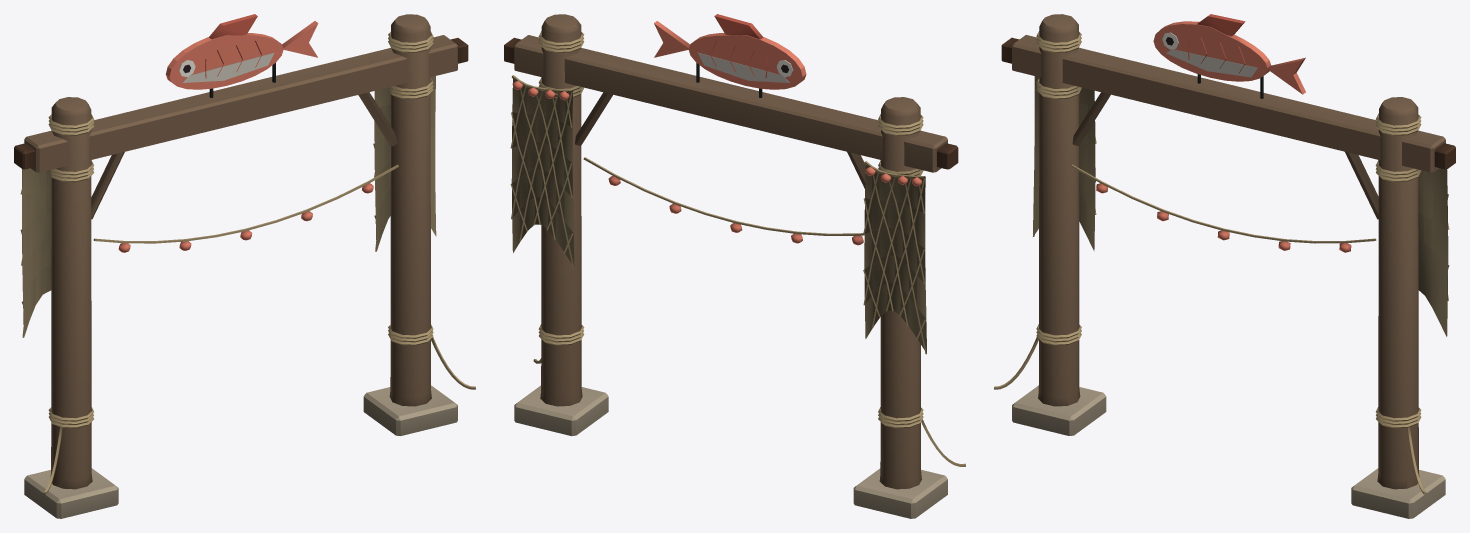
The model's file is pav_lighthouse_arch.glb.
3 renders of one model, left to right at view 1: azimuth 30°, elevation 25°; view 2: azimuth 150°, elevation 25°; view 3: azimuth 330°, elevation 25°, orthographic.
Visible parts, largest first — view 1: static_lighthouse_arch; view 2: static_lighthouse_arch; view 3: static_lighthouse_arch.
Part boxes in pixels (x1,y1,x2,y2): static_lighthouse_arch: [14, 14, 475, 518]; static_lighthouse_arch: [504, 14, 965, 518]; static_lighthouse_arch: [994, 14, 1455, 518].
Bounding box in the file's own units: 6.04 × 5.68 × 0.8825.
